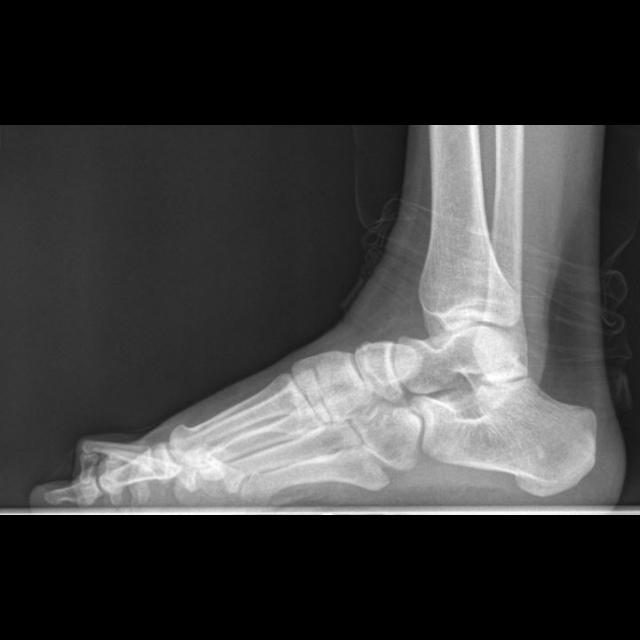a: (409, 375, 595, 498)
b: (355, 341, 404, 399)
c: (167, 371, 324, 468)
